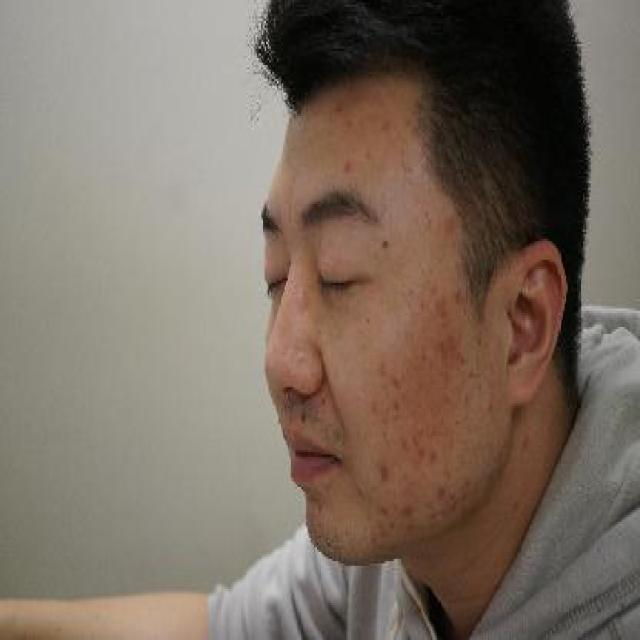Acne: (431, 324, 463, 368), (399, 427, 426, 468), (374, 454, 392, 484), (372, 352, 390, 380), (436, 285, 450, 320), (441, 209, 457, 239), (389, 369, 402, 394), (400, 496, 417, 515), (484, 392, 498, 415), (426, 441, 440, 464), (389, 397, 406, 415), (343, 154, 354, 180), (434, 480, 448, 499), (369, 392, 378, 417)
Blackheads: (375, 232, 397, 255)
